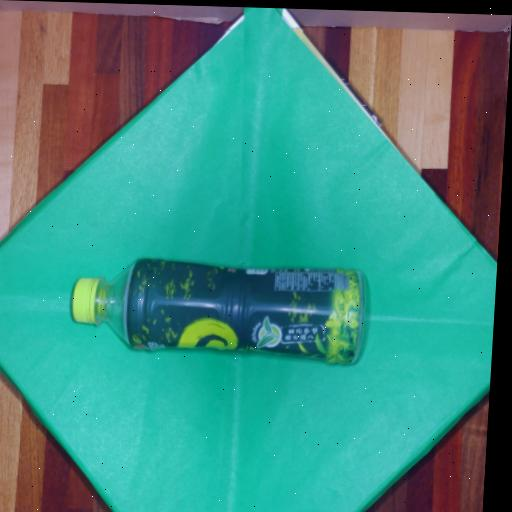bottle: (41, 237, 401, 377)
